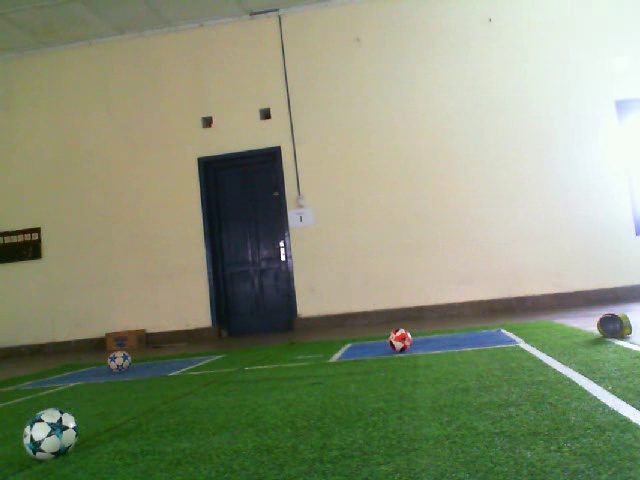ball: (20, 405, 81, 463), (386, 325, 415, 355), (104, 348, 134, 376)
